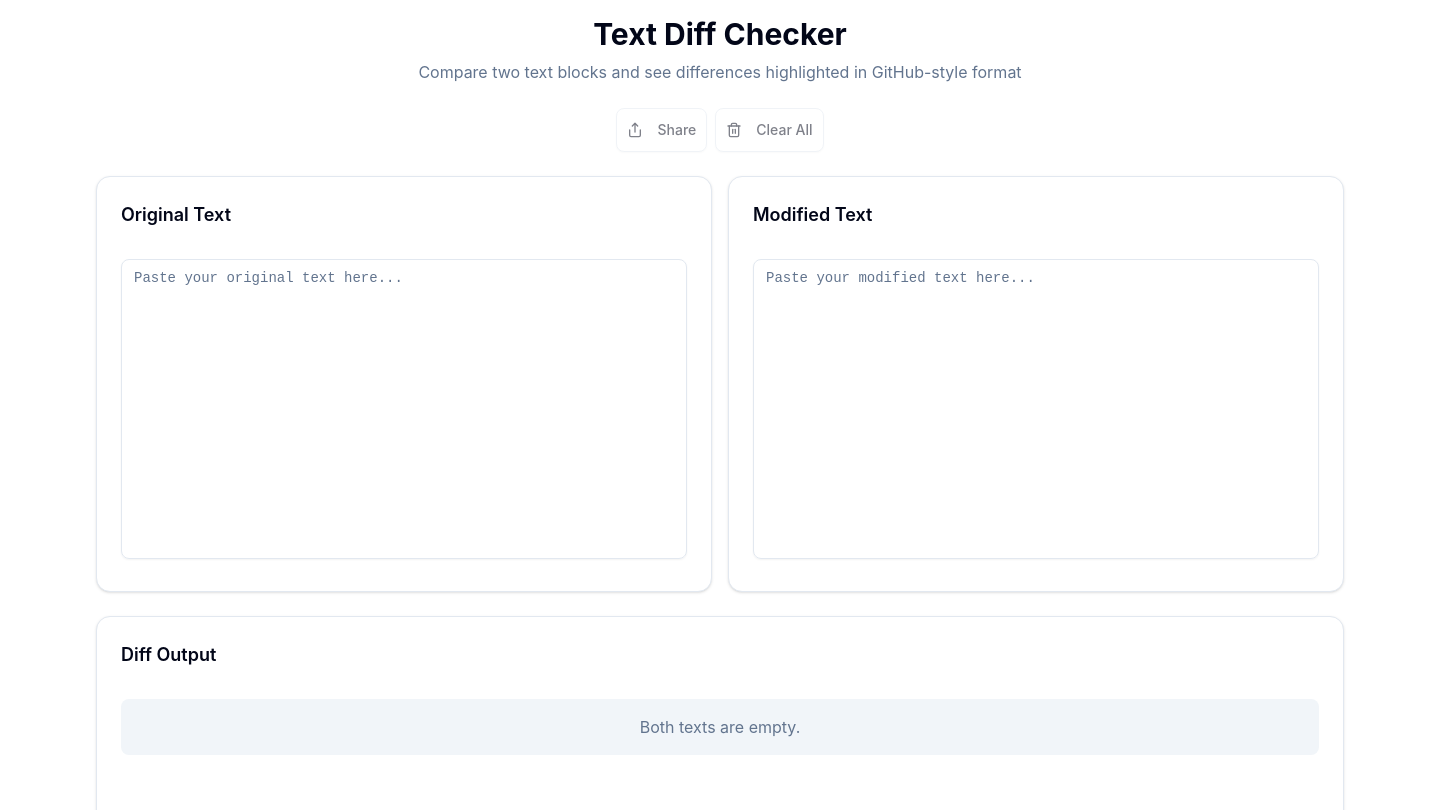
Test: State Persistence Integration › DiffChecker › should clear persisted state when Clear All is clicked
Type "original text" into the text box named "Original text input".
click(404, 409); type("original text")  # box [121,259,687,559]
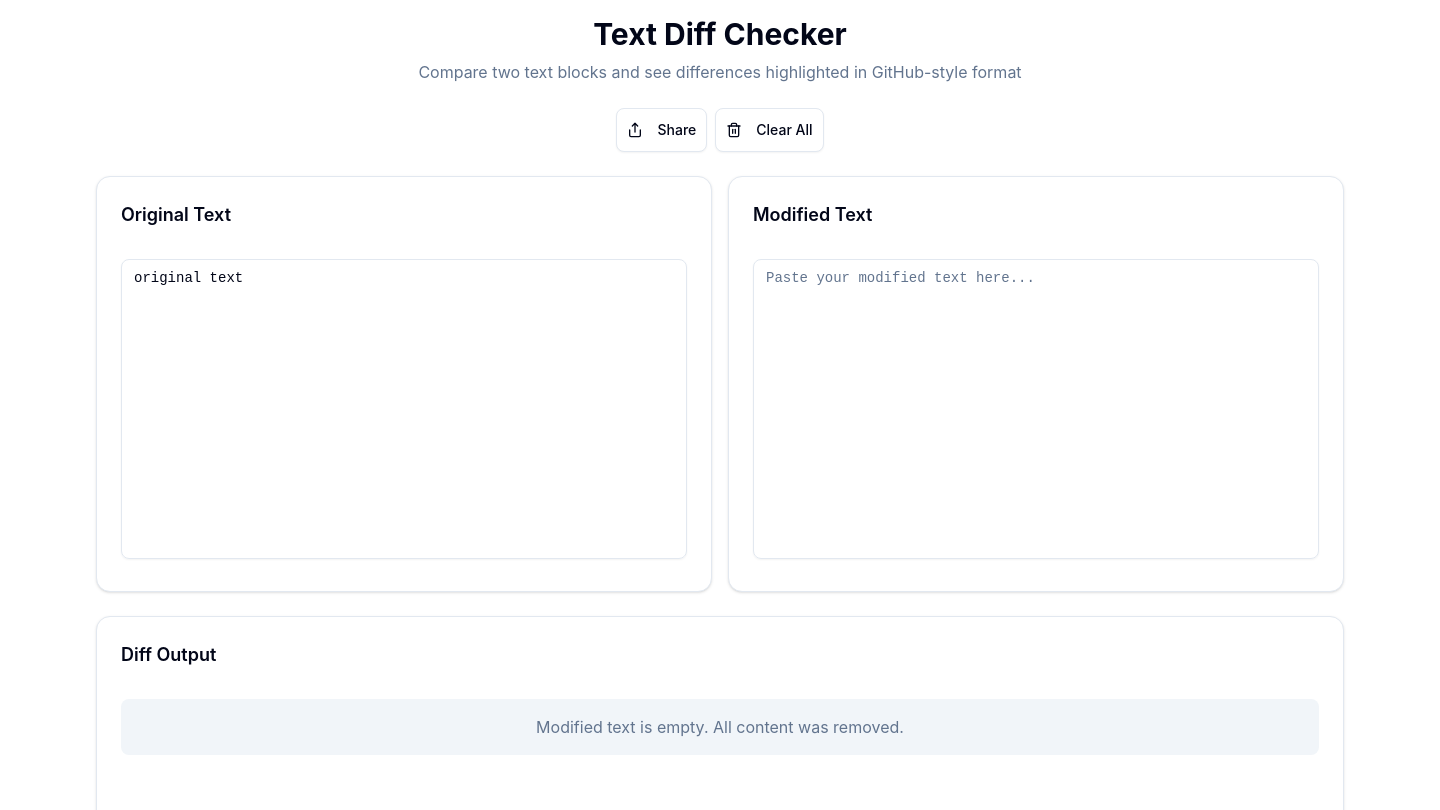
Type "modified text" into the text box named "Modified text input".
click(1036, 409); type("modified text")  # box [753,259,1319,559]
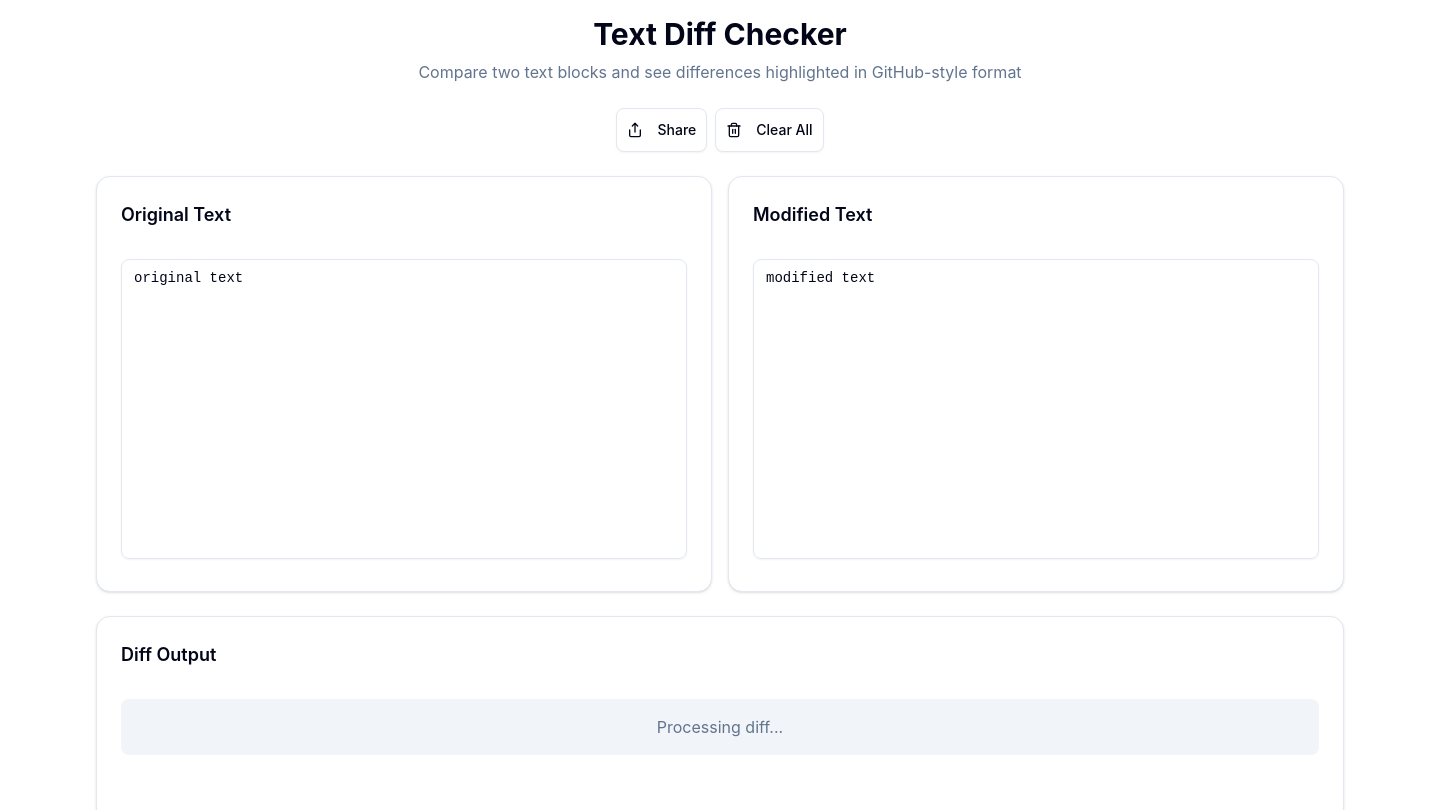
Click the button "Clear All".
click(769, 130)  # box [715,108,824,152]
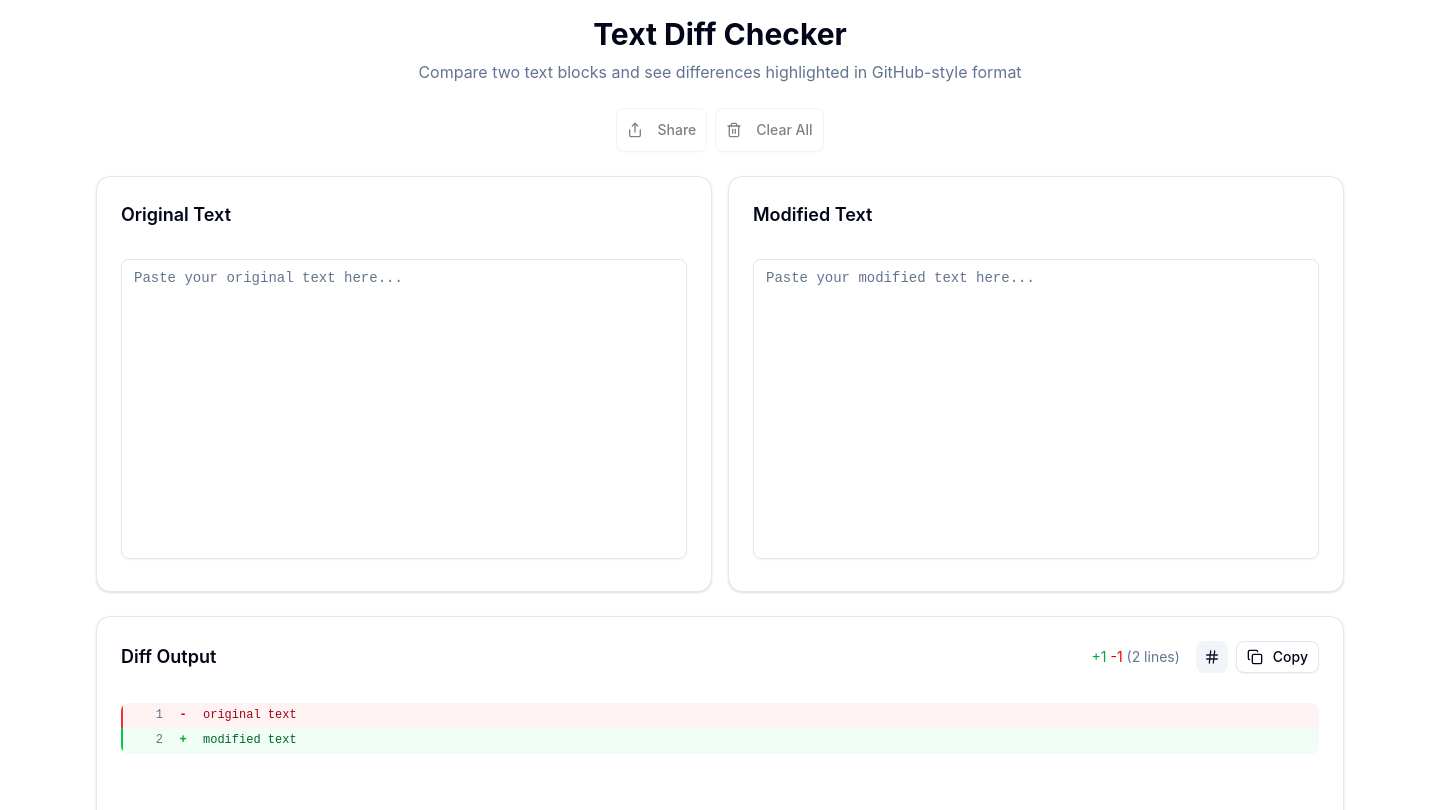
Expected: the text box named "Original text input" is empty, [121,259,687,559]
Expected: the text box named "Modified text input" is empty, [753,259,1319,559]
